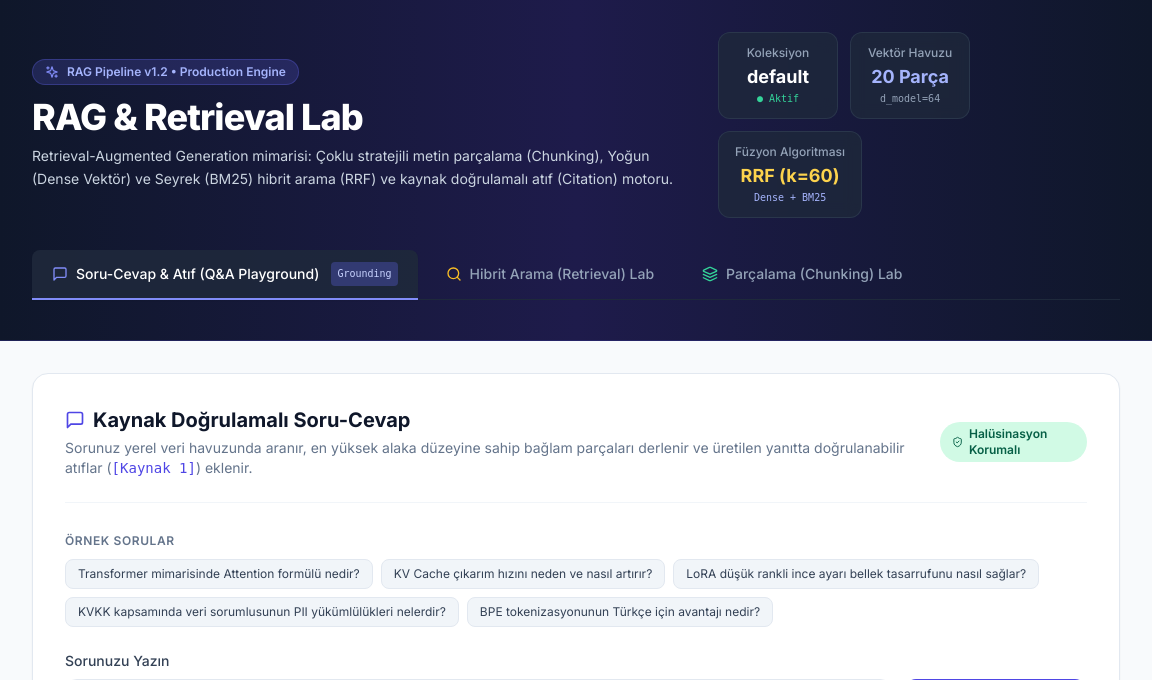
Test: RAG Lab Page › switches to Chunking Lab tab and displays strategy selectors
This screenshot has width=1152, height=680.
Click the button "Parçalama (Chunking) Lab" at [802, 275], box [682, 252, 922, 298]
(page scrolled)
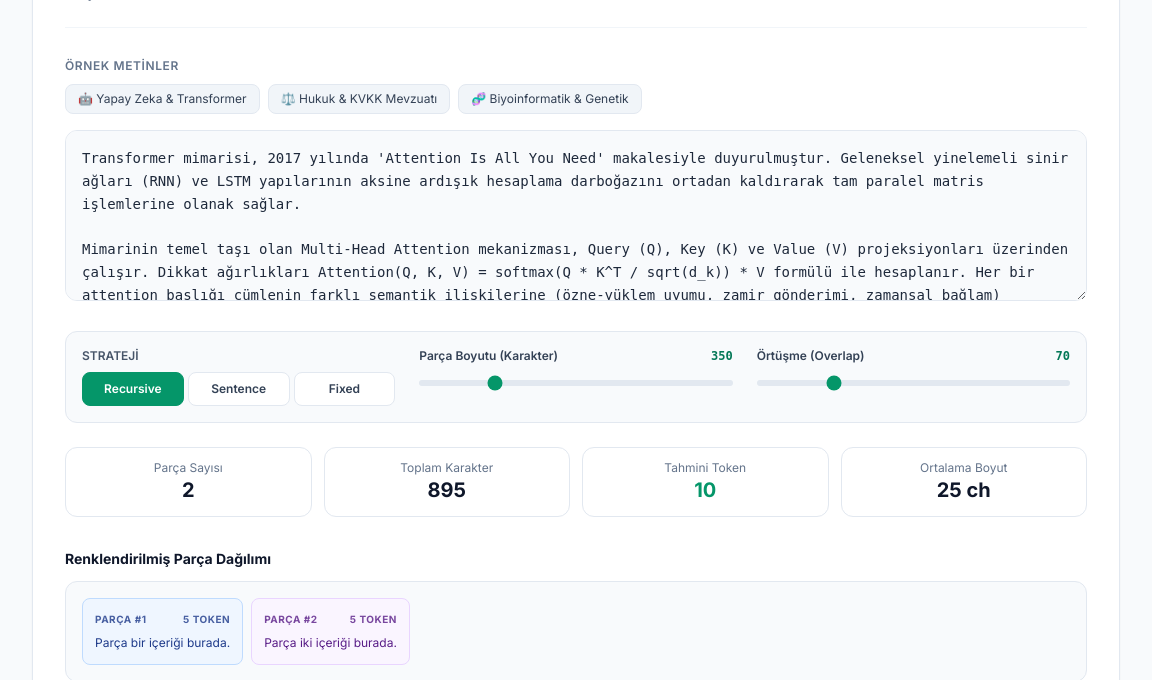
Result: the button "recursive" is shown at [82, 372, 184, 406]
Result: the button "sentence" is shown at [188, 372, 290, 406]
Result: the button "fixed" is shown at [294, 372, 395, 406]
